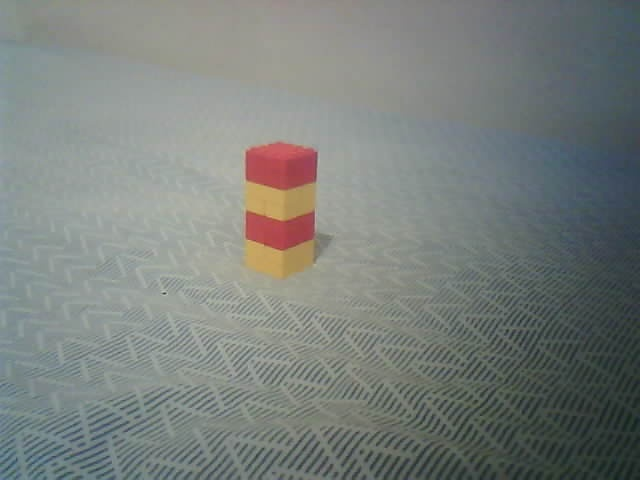lego: (243, 141, 318, 279)
